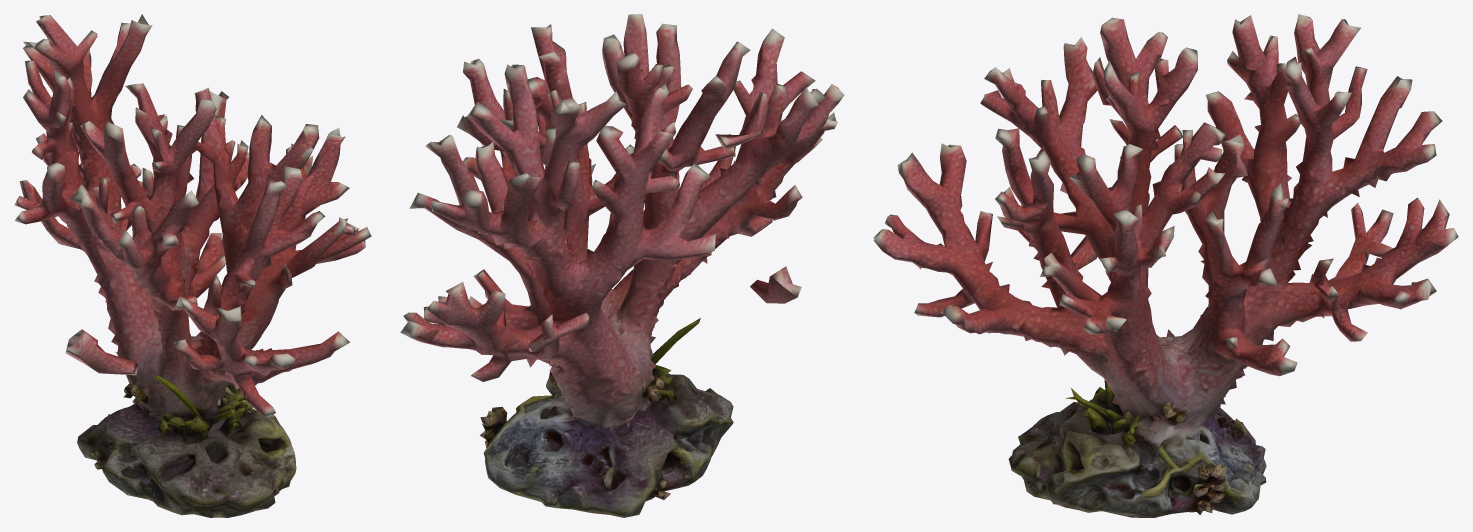
The model's file is coral-a.glb.
The picture shows the model from 3 angles, left to right: view 1: azimuth 30°, elevation 25°; view 2: azimuth 150°, elevation 25°; view 3: azimuth 270°, elevation 25°; orthographic projection. The views are drawn at different scales.
Parts seen in each view (by area): view 1: tripo_node_c36b018f-2c41-4fdf-9f83-f9c044bd4f26; view 2: tripo_node_c36b018f-2c41-4fdf-9f83-f9c044bd4f26; view 3: tripo_node_c36b018f-2c41-4fdf-9f83-f9c044bd4f26.
Boxes of the visible parts, <box> form: tripo_node_c36b018f-2c41-4fdf-9f83-f9c044bd4f26: <box>14,14,371,517</box>; tripo_node_c36b018f-2c41-4fdf-9f83-f9c044bd4f26: <box>400,14,844,517</box>; tripo_node_c36b018f-2c41-4fdf-9f83-f9c044bd4f26: <box>873,14,1458,517</box>.
Size of the model in its own units: 0.6417 by 0.8163 by 1.
Materials: 1 (1 with a texture image).
